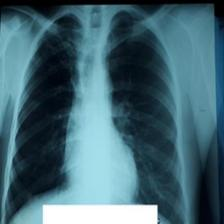tuberculosis: (1, 3, 193, 224)
